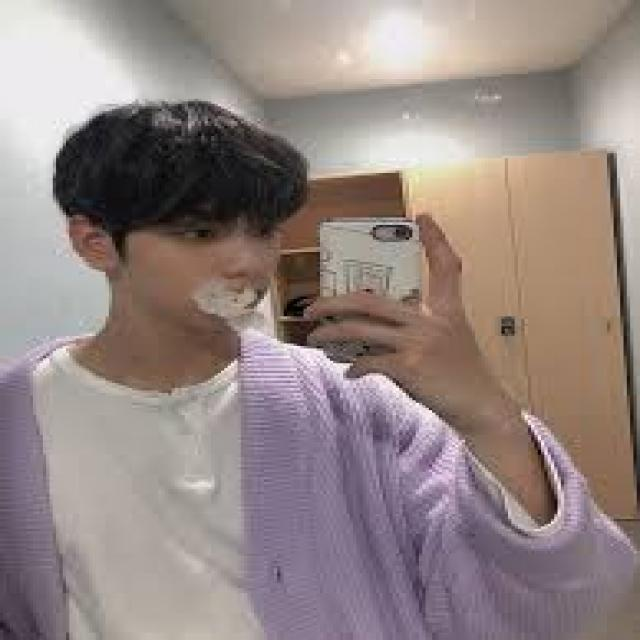Phone: (316, 218, 428, 364)
